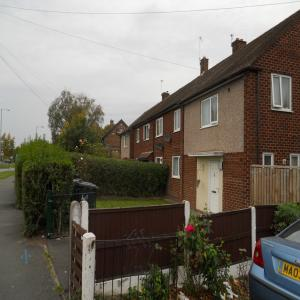Vehicle-registration-plate: (278, 261, 300, 282)
